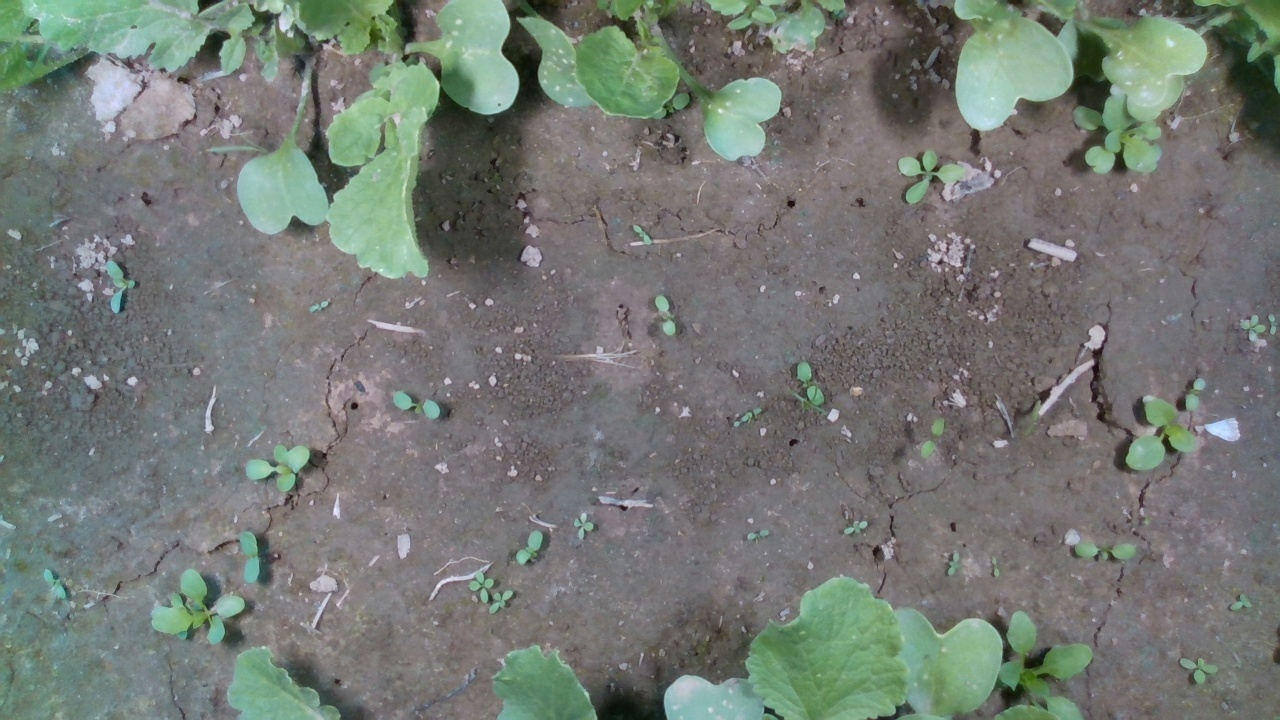weed: (896, 148, 966, 206), (386, 387, 444, 421), (235, 529, 262, 585), (1072, 538, 1137, 561), (513, 528, 547, 570), (1176, 655, 1221, 683), (919, 416, 945, 462), (654, 291, 678, 338), (40, 567, 69, 600), (1185, 376, 1208, 414), (569, 511, 593, 540), (629, 223, 654, 246), (1224, 592, 1253, 611), (944, 550, 961, 578), (743, 527, 773, 542), (842, 520, 870, 535), (989, 554, 1003, 580)
